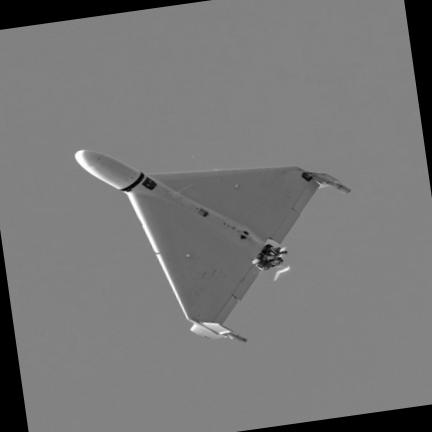Shahed: (76, 149, 342, 341)
